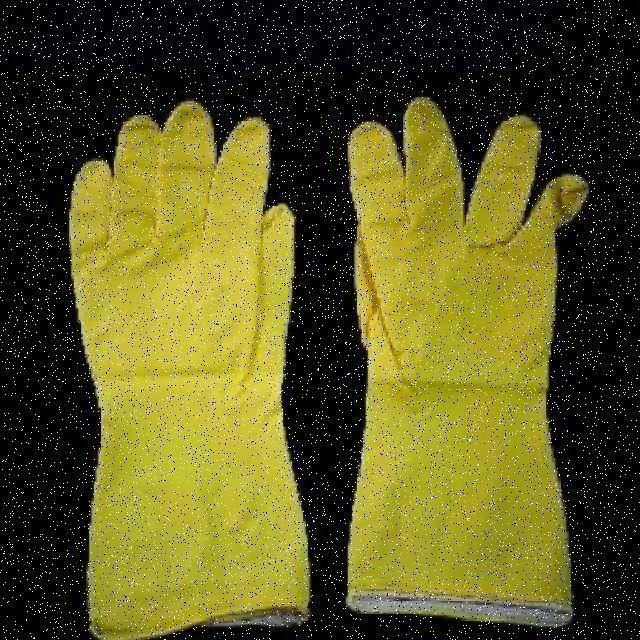Guantes: (68, 100, 311, 639), (344, 95, 589, 626)
